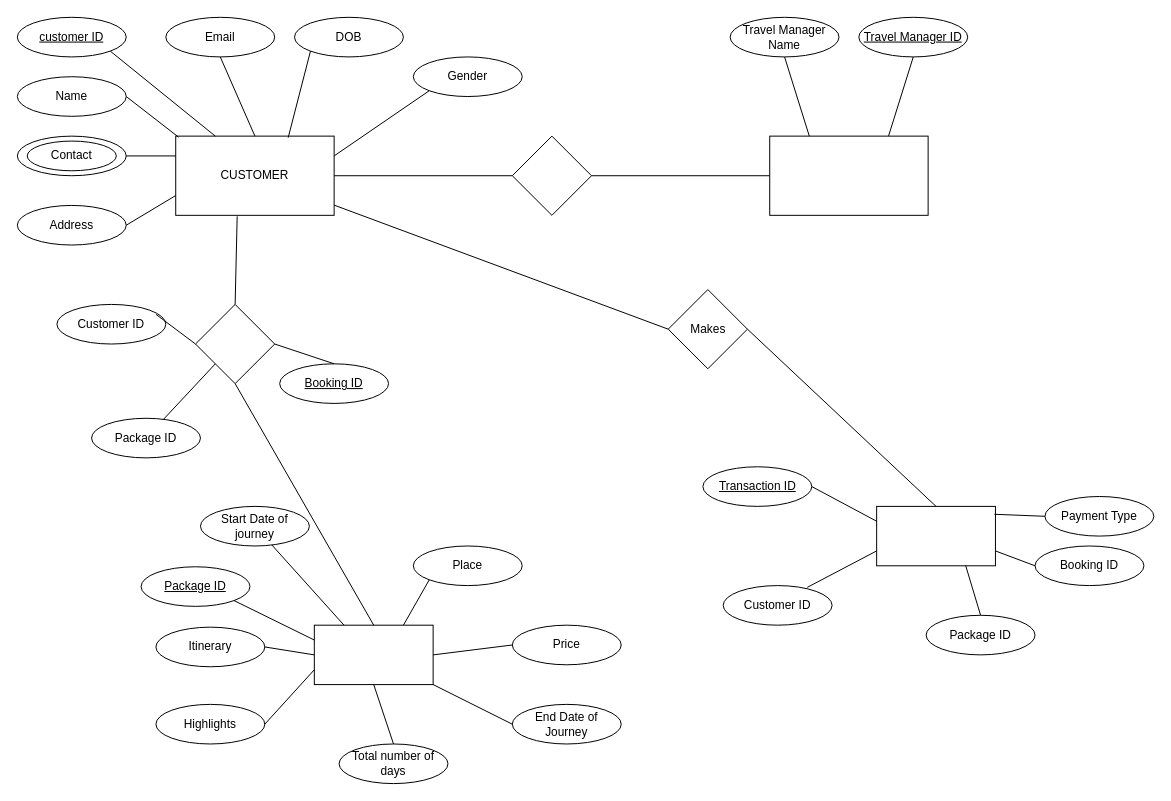
Some shapes in this 1171 by 801 pixel diagram are drawn without their labels. Here are the shapes that lost their labels. From the top down, the centre of each, then its label:
At pixel 551 175: "Has A".
At pixel 848 175: "TRAVEL MANAGER".
At pixel 235 343: "Books".
At pixel 935 535: "PAYMENT".
At pixel 373 654: "PACKAGE".
